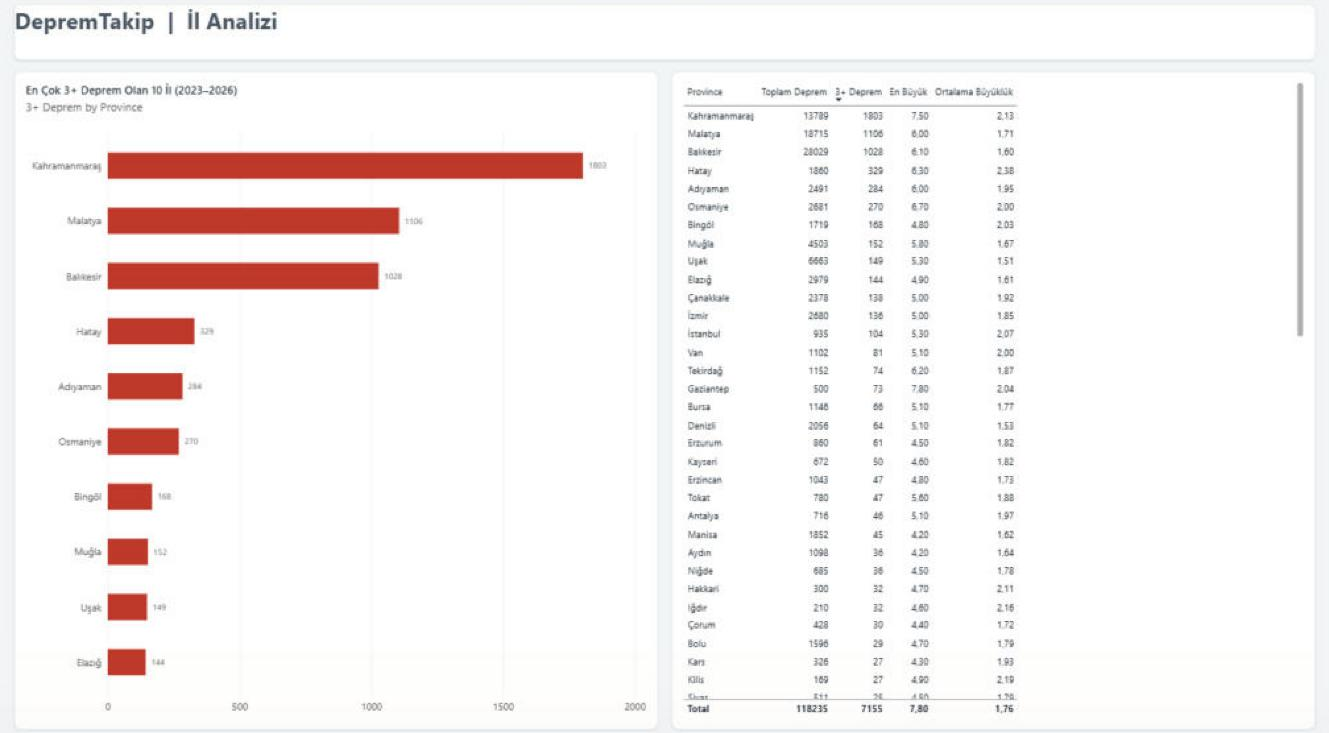

Layout of this report page (visuals, bound fields, positions):
{"tool":"powerbi","page":{"name":"İl Analizi","canvas":[1920,1080],"ordinal":2},"visuals":[{"type":"clusteredBarChart","title":"En Çok 3+ Deprem Olan 10 İl (2023–2026)","fields":{"Category":["Earthquakes.Province"],"Y":["Earthquakes.3+ Deprem"]},"box":[30,110,920,940],"z":0},{"type":"tableEx","fields":{"Values":["Earthquakes.Province","Earthquakes.Toplam Deprem","Earthquakes.3+ Deprem","Earthquakes.En Büyük","Earthquakes.Ortalama Büyüklük"]},"box":[970,110,920,940],"z":1},{"type":"textbox","box":[30,15,1860,80],"z":2}]}

Visuals, with their boxes in screenshot pixels (x1, y1, x2, y2), scaled from the page's 1920x1080 canvas onto the 1329x733 screenshot:
"En Çok 3+ Deprem Olan 10 İl (2023–2026)" clusteredBarChart: locate(21, 75, 658, 713)
tableEx - Earthquakes.Province x Earthquakes.Toplam Deprem: locate(671, 75, 1308, 713)
textbox: locate(21, 10, 1308, 64)
